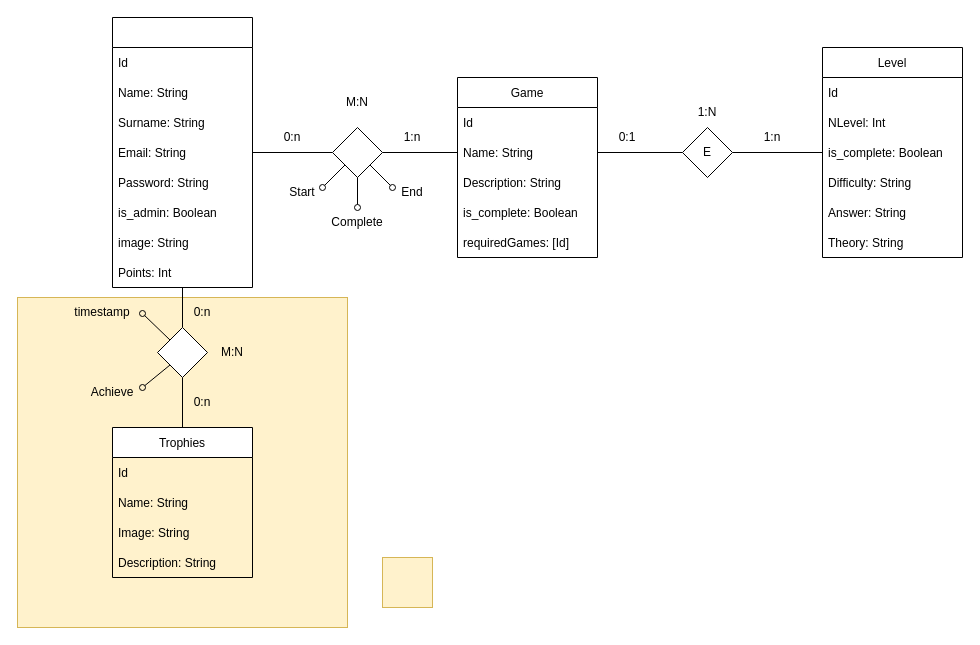
The diagram is 980 pixels wide and 645 high, and some of its shapes have lost their labels. Each missing label, with the box of its shape:
Si dona temps: (382, 556, 432, 608)
User: (112, 16, 252, 288)
